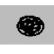correct: (10, 13, 49, 40)
